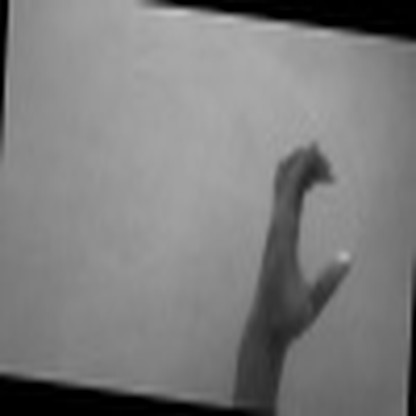c: (256, 134, 356, 337)
